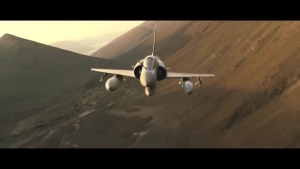flight: (89, 23, 216, 96)
